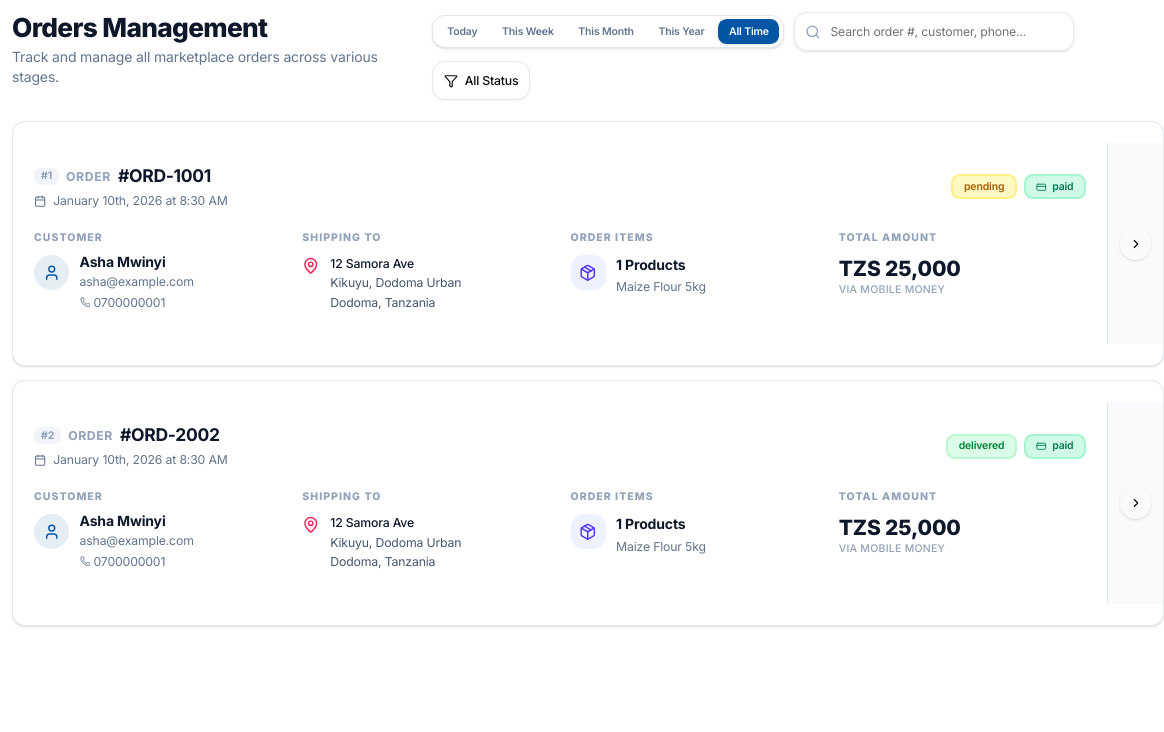
Test: OrdersManagementTab › clears both search and status filters via 'Clear all filters'
Click the button "All Status" at (481, 81), box [432,61,530,100]
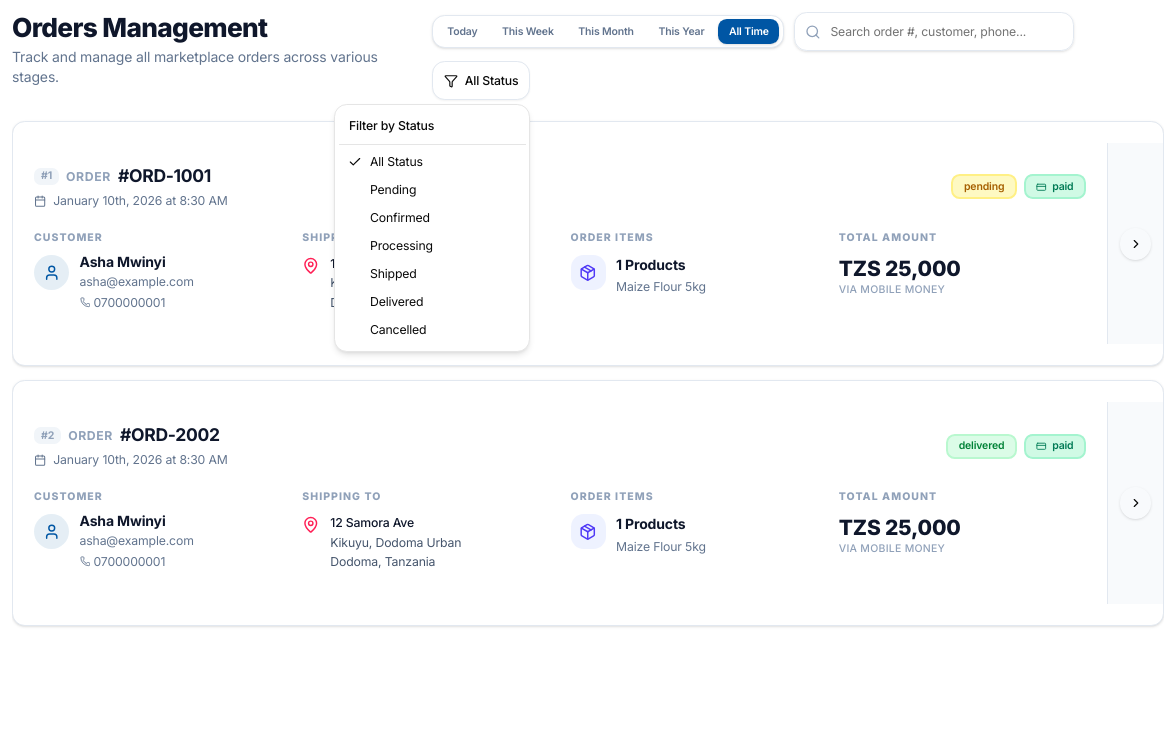
Click the menu item "Delivered" at (397, 302), box [370,294,423,309]
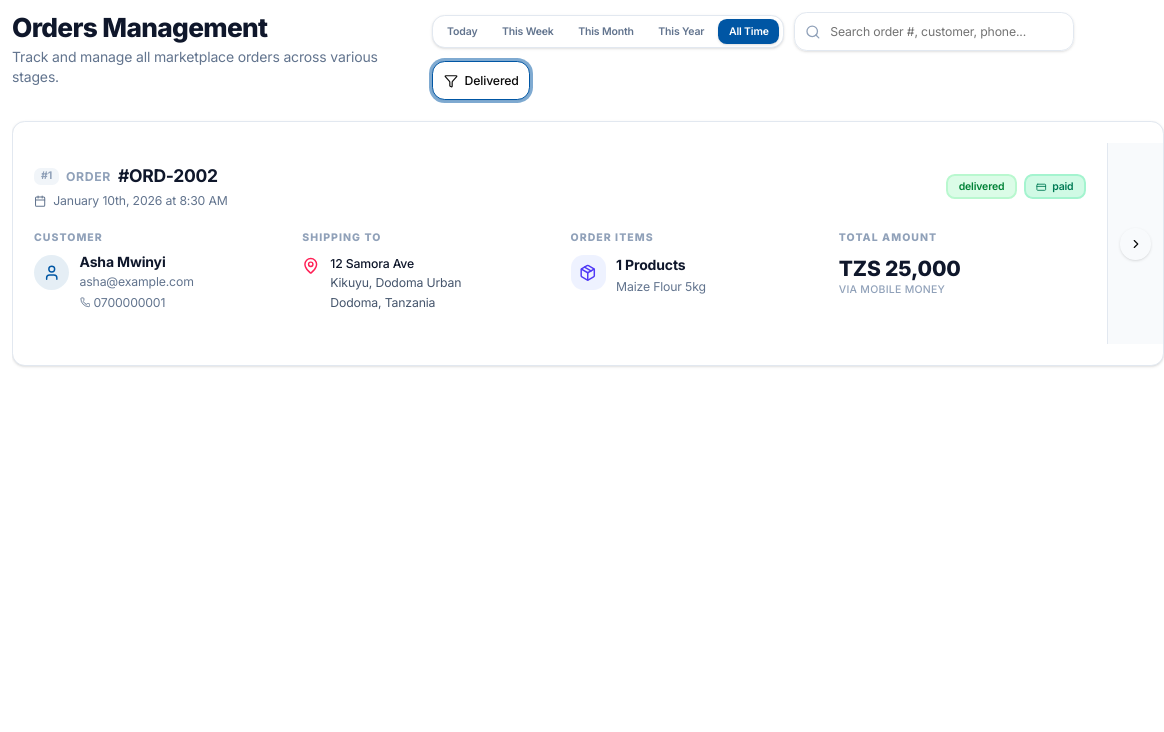
Type "no-match" into the field with placeholder "Search order #, customer, phone..." at (934, 32), box [794,12,1074,51]
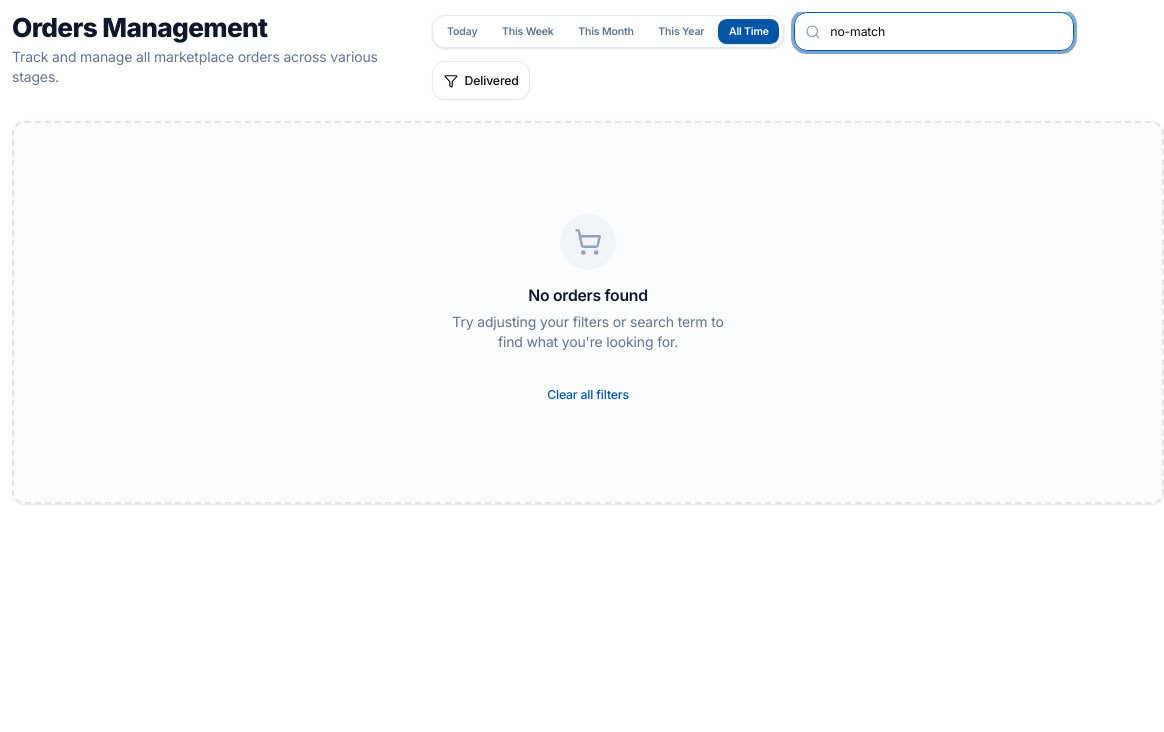
Now the button "Clear all filters" is shown
Click the button "Clear all filters" at (588, 395), box [533,379,643,411]
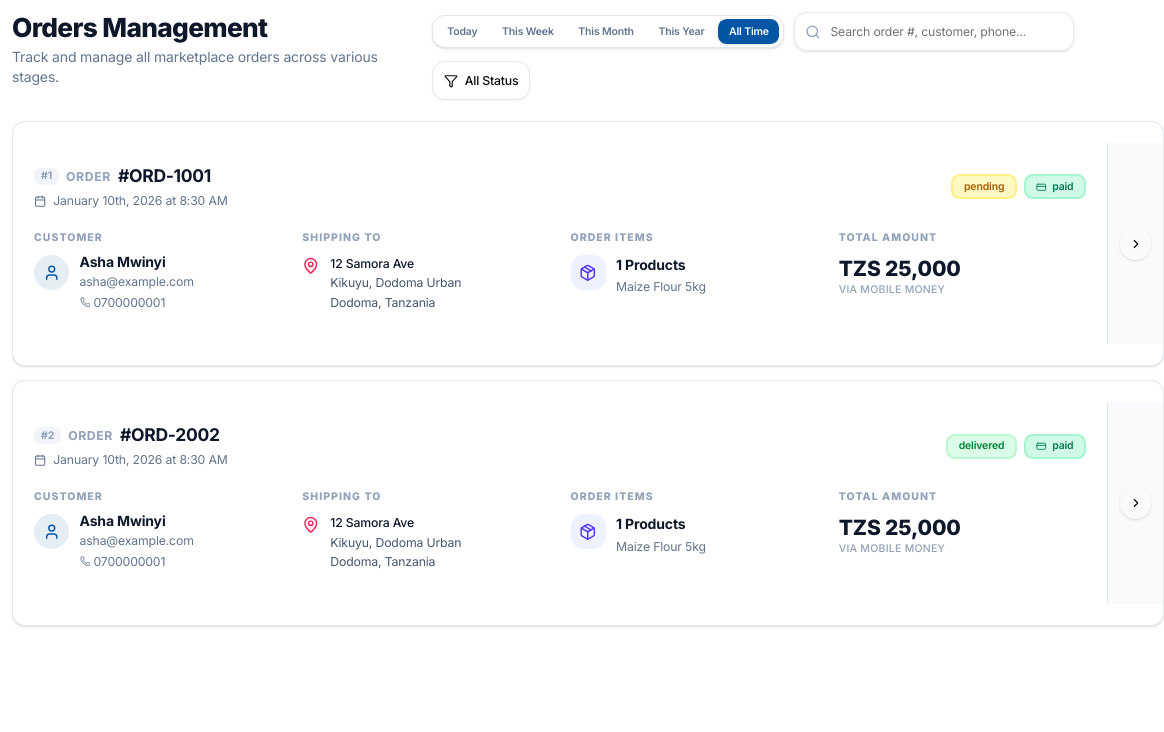
Now the heading "#ORD-1001" is shown, box [118,164,211,189]
Now the heading "#ORD-2002" is shown, box [120,423,220,448]
Now the button "All Status" is shown, box [432,61,530,100]
